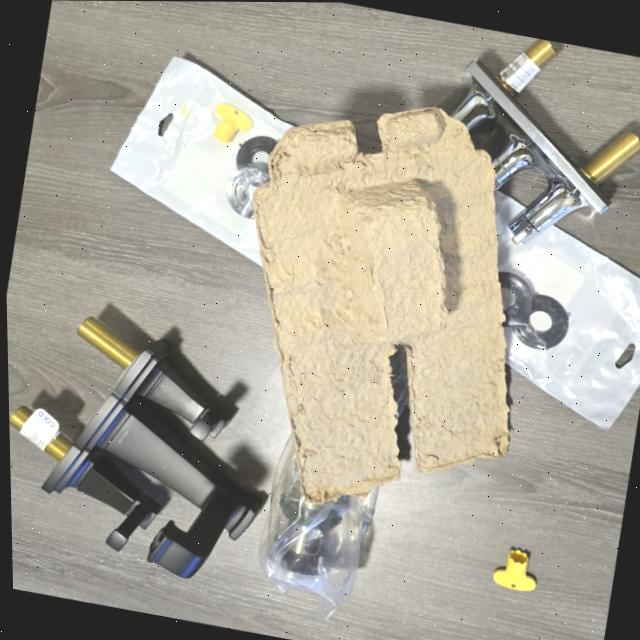10o: (450, 38, 640, 242)
11o: (259, 434, 377, 619)
12o: (112, 56, 291, 263)
13o: (494, 190, 640, 428)
14: (493, 548, 536, 590)
9: (9, 316, 264, 576)
